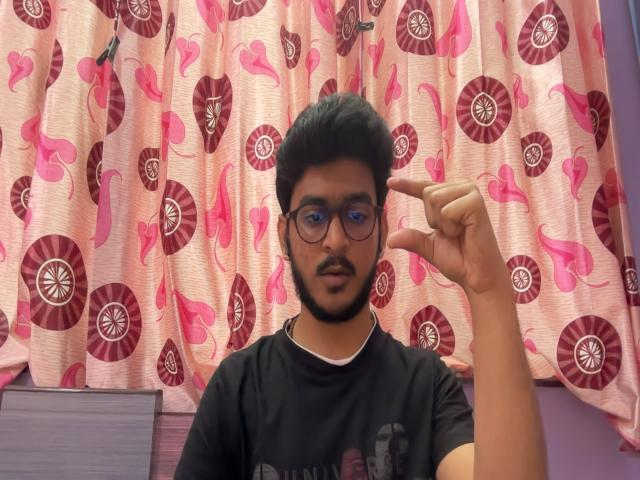No: (383, 170, 526, 332)
